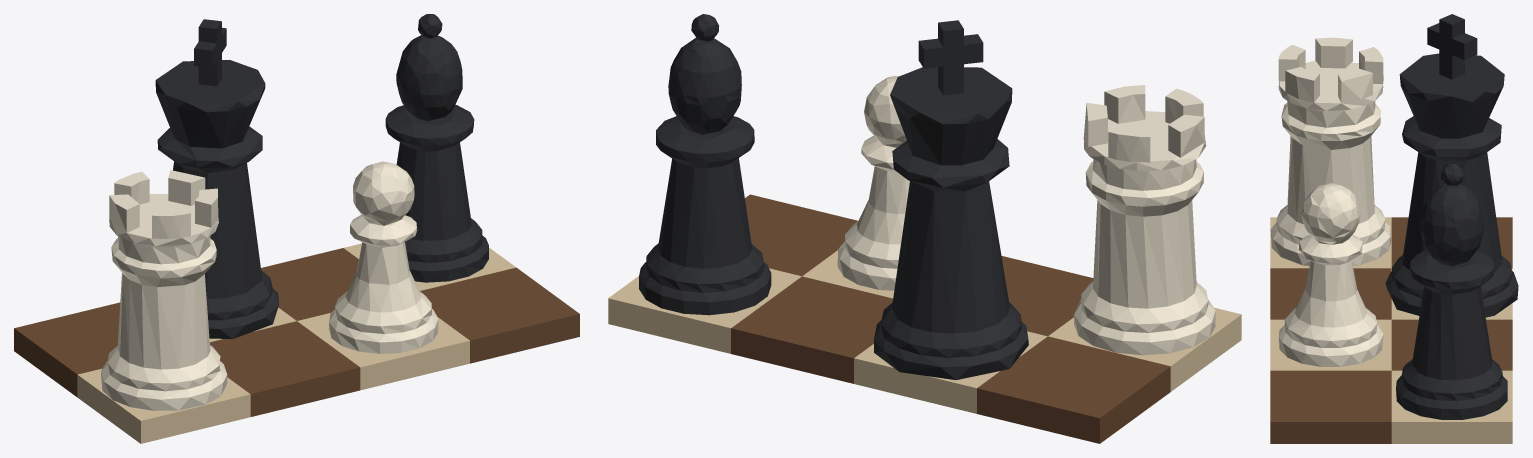
The model's file is ajedrez.glb.
The picture shows the model from 3 angles, left to right: view 1: azimuth 30°, elevation 25°; view 2: azimuth 150°, elevation 25°; view 3: azimuth 270°, elevation 25°; orthographic projection. The views are drawn at different scales.
Parts seen in each view (by area): view 1: PLA negro, PLA marfil, Casillas oscuras, Casillas claras; view 2: PLA negro, PLA marfil, Casillas oscuras, Casillas claras; view 3: PLA negro, PLA marfil, Casillas oscuras, Casillas claras.
Part boxes in pixels (x1,y1,x2,y2): PLA negro: (155, 14, 488, 338); PLA marfil: (101, 161, 438, 410); Casillas oscuras: (14, 248, 579, 416); Casillas claras: (77, 243, 515, 443); PLA negro: (639, 14, 1028, 379); PLA marfil: (837, 75, 1215, 355); Casillas oscuras: (731, 194, 1170, 443); Casillas claras: (608, 250, 1241, 413); PLA negro: (1385, 14, 1518, 419); PLA marfil: (1270, 37, 1391, 366); Casillas oscuras: (1270, 217, 1512, 443); Casillas claras: (1270, 217, 1512, 443).
Size of the model in its own units: 0.12 by 0.081 by 0.0614.
